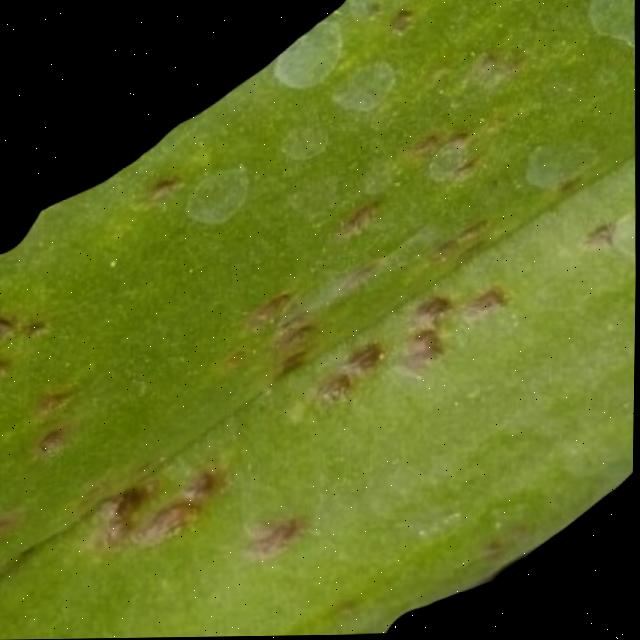mite: (377, 452, 635, 634), (184, 161, 253, 227), (520, 138, 601, 194), (423, 131, 479, 185), (389, 5, 418, 35)
